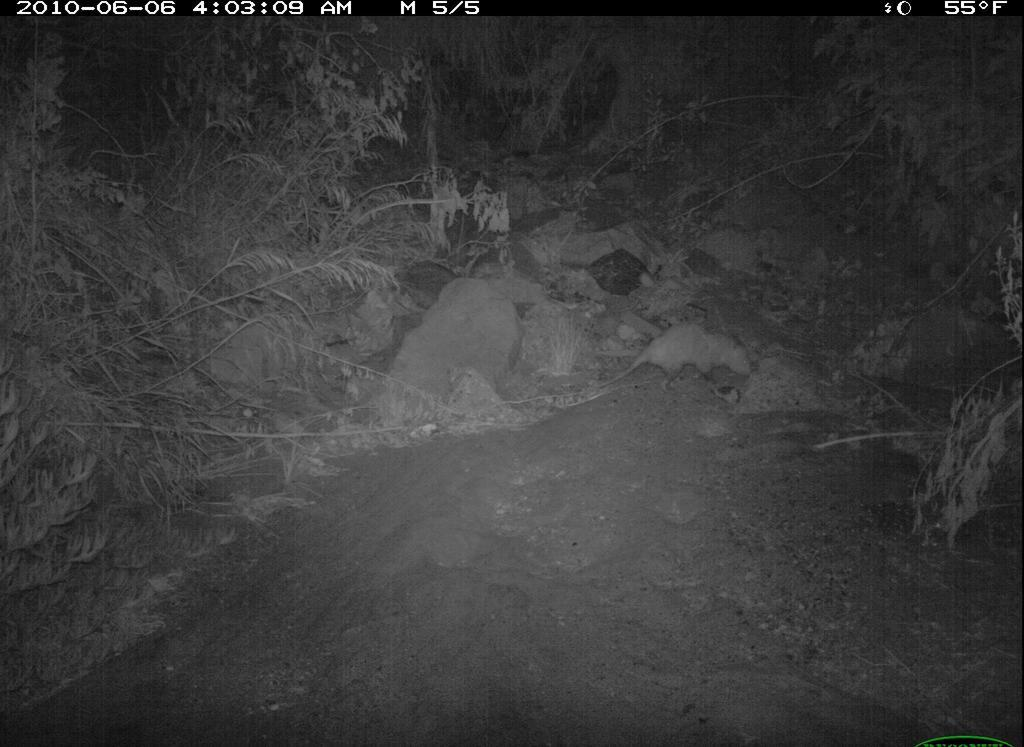opossum: (602, 323, 760, 411)
